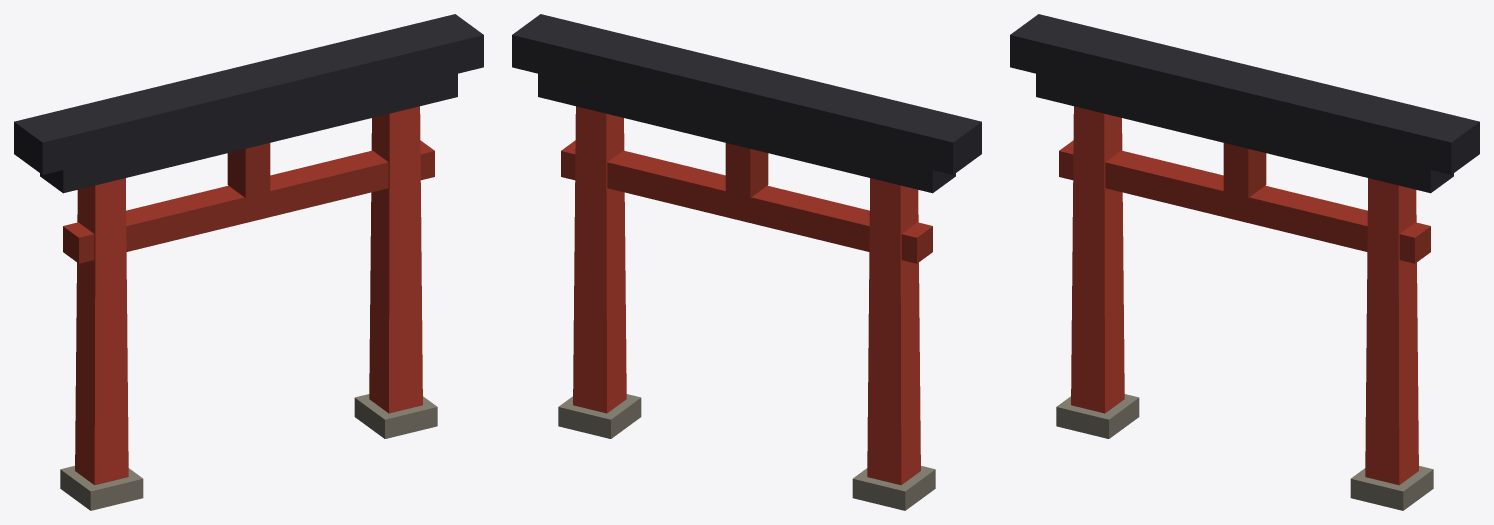
The model's file is torii.glb.
3 views of the same model, side by side, from view 1: azimuth 30°, elevation 25°; view 2: azimuth 150°, elevation 25°; view 3: azimuth 330°, elevation 25° (orthographic).
Parts seen in each view (by area): view 1: torii; view 2: torii; view 3: torii.
Part boxes in pixels (x1,y1,x2,y2): torii: (14,14,483,510); torii: (512,14,981,510); torii: (1010,14,1479,510).
Bounding box in the file's own units: 2.85 × 2.34 × 0.34.
Materials: 1 (1 with a texture image).
